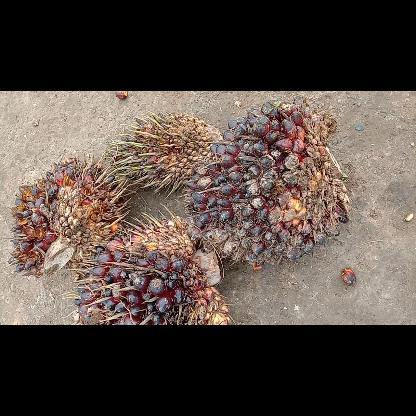Kurang masak: (190, 98, 350, 266), (75, 220, 233, 324)
TBS abnormal: (106, 111, 224, 193)
TBS masak: (8, 157, 124, 277)
